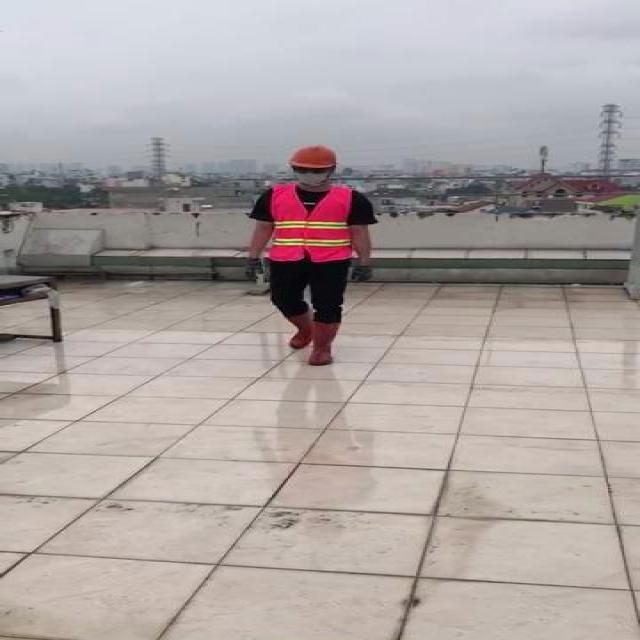boots: (306, 320, 341, 366), (286, 312, 316, 350)
face_mask: (292, 164, 336, 186)
glasses: (292, 163, 331, 176)
hand_glove: (348, 262, 374, 285), (245, 259, 265, 282)
head_helmet: (288, 144, 341, 172)
person: (239, 144, 380, 372)
vest: (267, 186, 350, 262)
